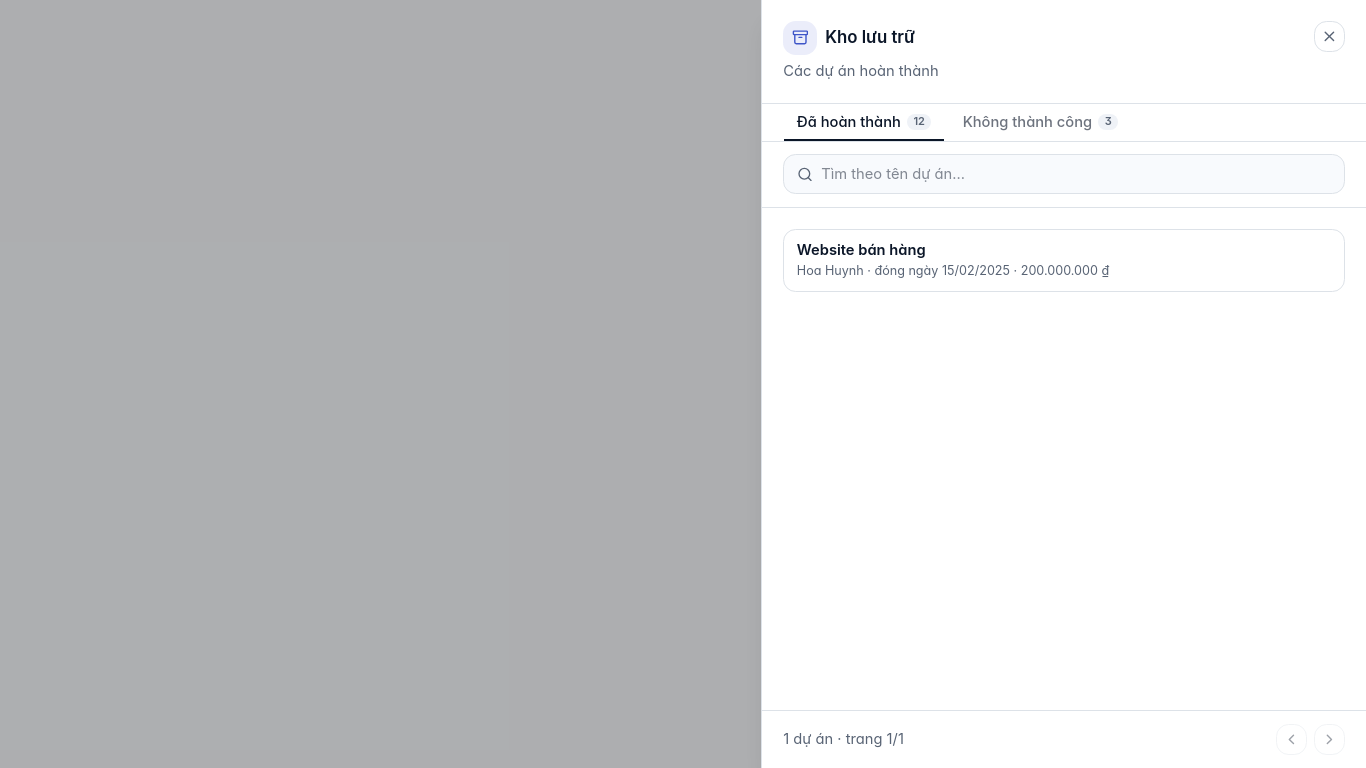
hai mục của kho › bấm mục Không thành công thì tải đúng các dự án thất bại, kèm lý do
Check: the text "Website bán hàng" is shown, box [797,241,926,259]
Click the tab "Không thành công 3" at (1040, 122), box [949,107,1132,137]
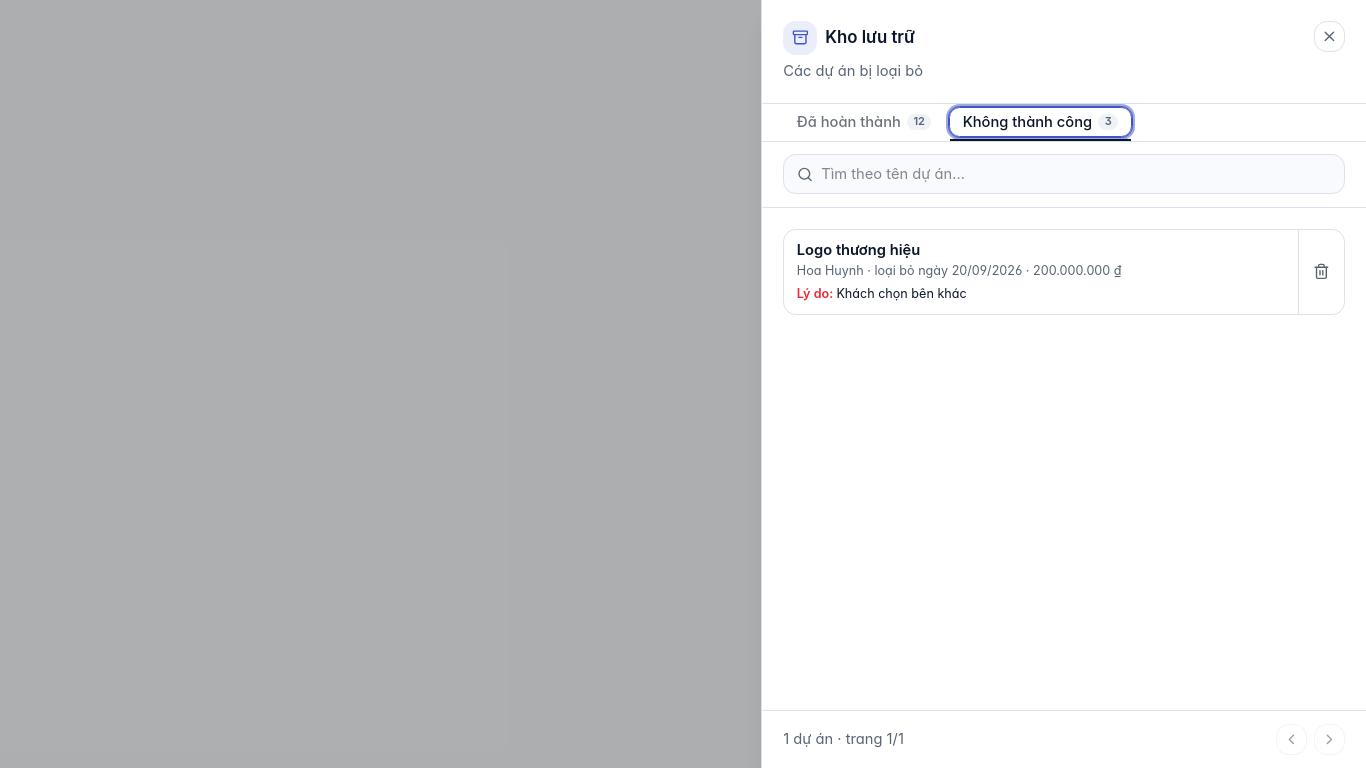
Check: the text "Logo thương hiệu" is shown, box [797,241,920,259]
Check: the text "Khách chọn bên khác" is shown, box [836,286,967,301]
Check: the text "Hoa Huynh · loại bỏ ngày 20/09/2026 · 200.000.000 ₫" is shown, box [797,263,1122,278]
